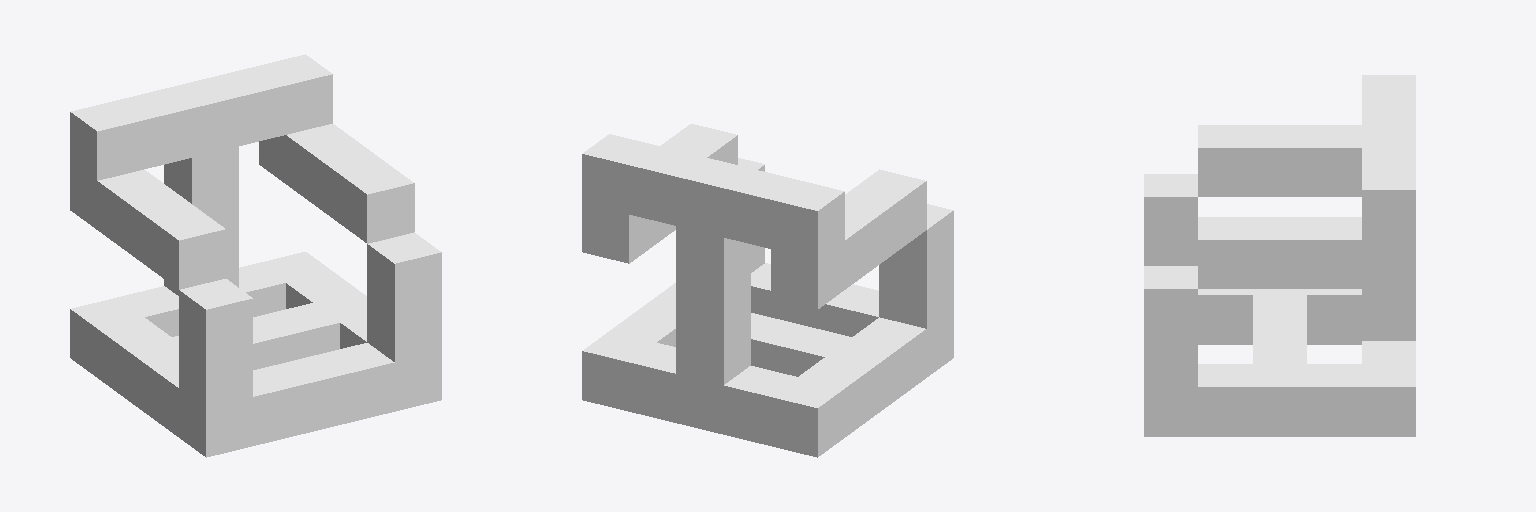
Rendered from wheelplat.obj.
3 views of the same model, side by side, from view 1: azimuth 30°, elevation 25°; view 2: azimuth 150°, elevation 25°; view 3: azimuth 270°, elevation 25° (orthographic).
Parts seen in each view (by area): view 1: object 1; view 2: object 1; view 3: object 1.
Boxes of the visible parts, <box> form: object 1: <box>70,54,441,457</box>; object 1: <box>582,124,953,457</box>; object 1: <box>1144,75,1415,436</box>.
Size of the model in its own units: 0.5 by 0.5 by 0.5.